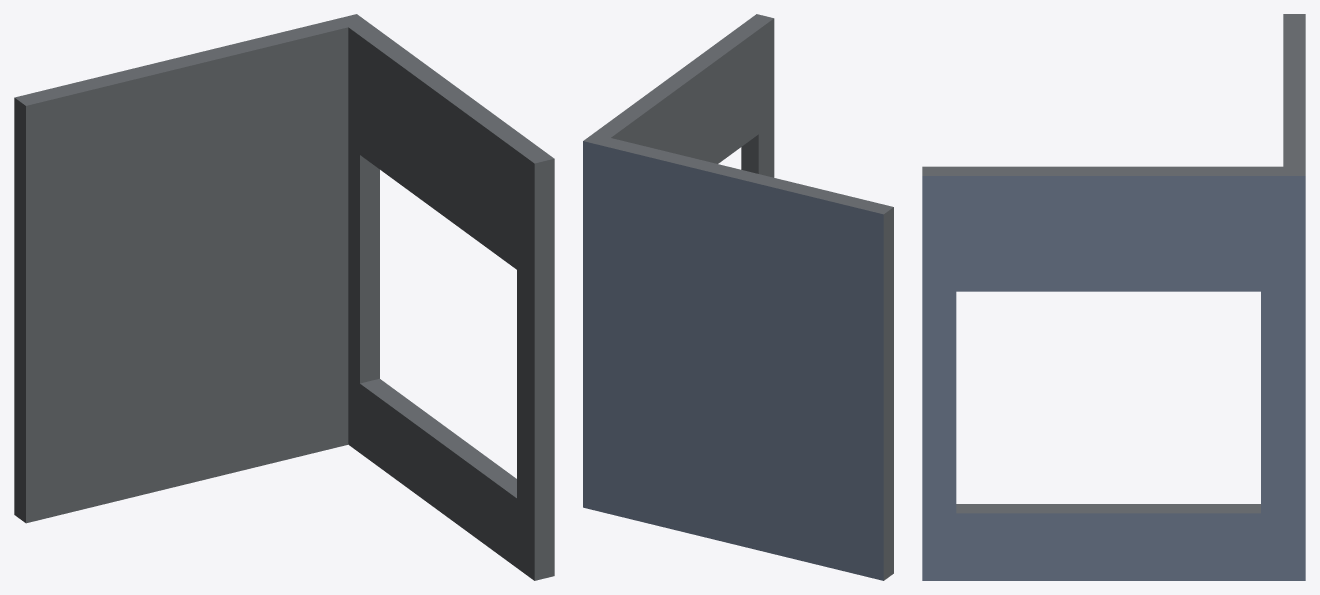
The model's file is Wall3_C4_14.fbx.
3 renders of one model, left to right at view 1: azimuth 30°, elevation 25°; view 2: azimuth 150°, elevation 25°; view 3: azimuth 270°, elevation 25°, orthographic. The views are drawn at different scales.
Parts seen in each view (by area): view 1: Wall3_C4_14; view 2: Wall3_C4_14; view 3: Wall3_C4_14.
Boxes of the visible parts, x1,y1,x2,y2 form: Wall3_C4_14: [14, 14, 554, 580]; Wall3_C4_14: [583, 14, 893, 580]; Wall3_C4_14: [922, 14, 1305, 580].
Bounding box in the file's own units: 258 × 300 × 258.
